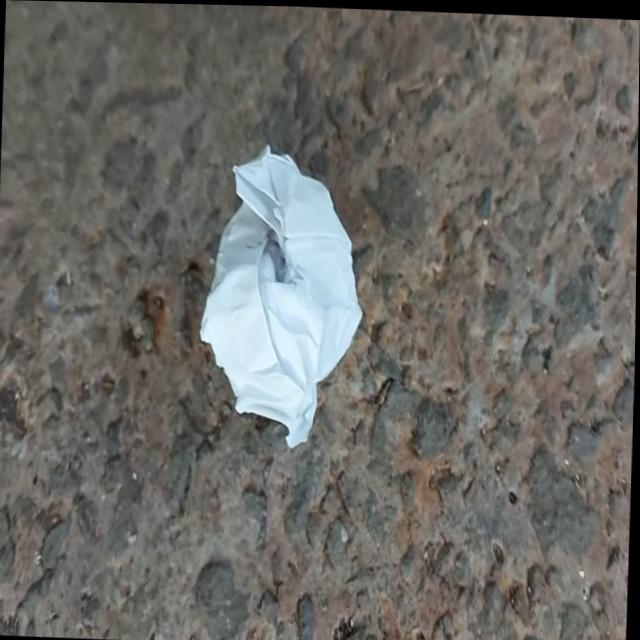paper: (201, 147, 361, 446)
